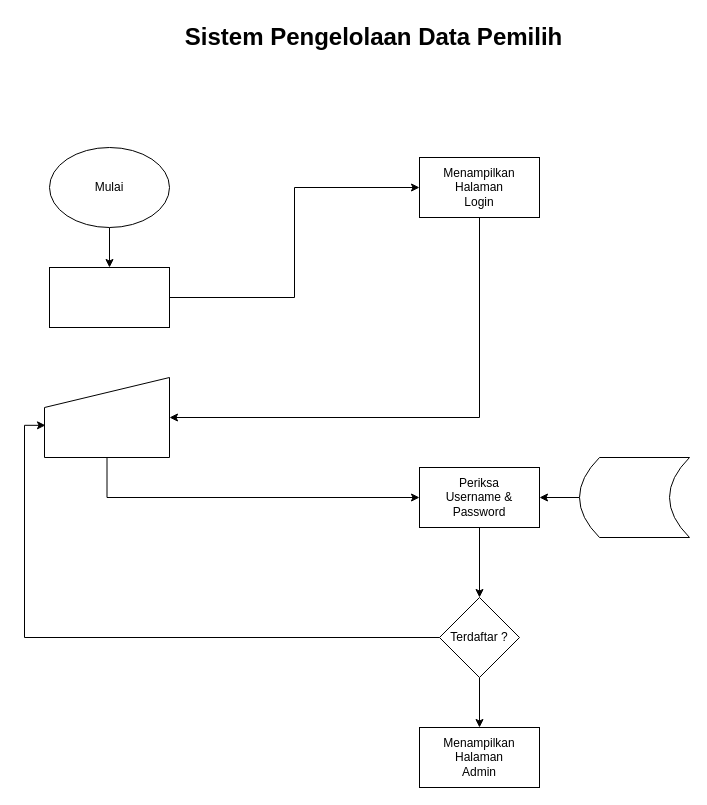
Some shapes in this 707 by 805 pixel diagram are drawn without their labels. Each missing label, with the centre of its shape:
Data Admin: point 634,497
Login: point 109,297
Masukkan Username & Password: point 107,417
